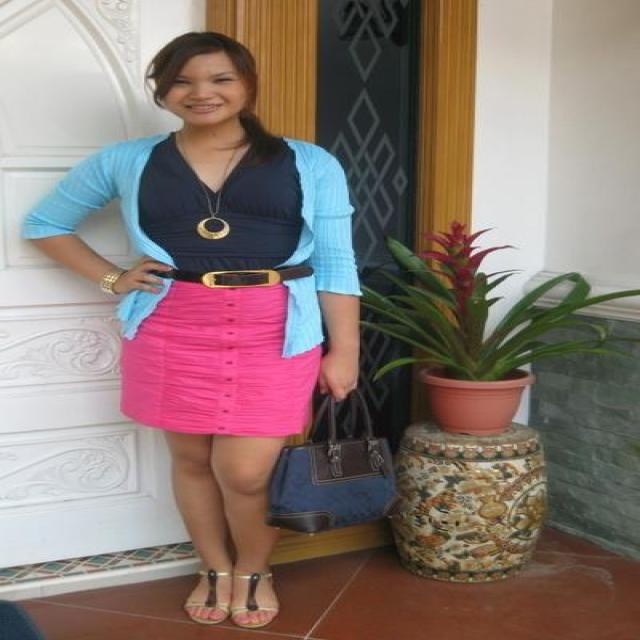bag: (262, 433, 393, 533)
jacket: (22, 134, 360, 358)
shirt: (137, 141, 306, 272)
shoe: (176, 568, 216, 600)
skirt: (118, 280, 320, 435)
